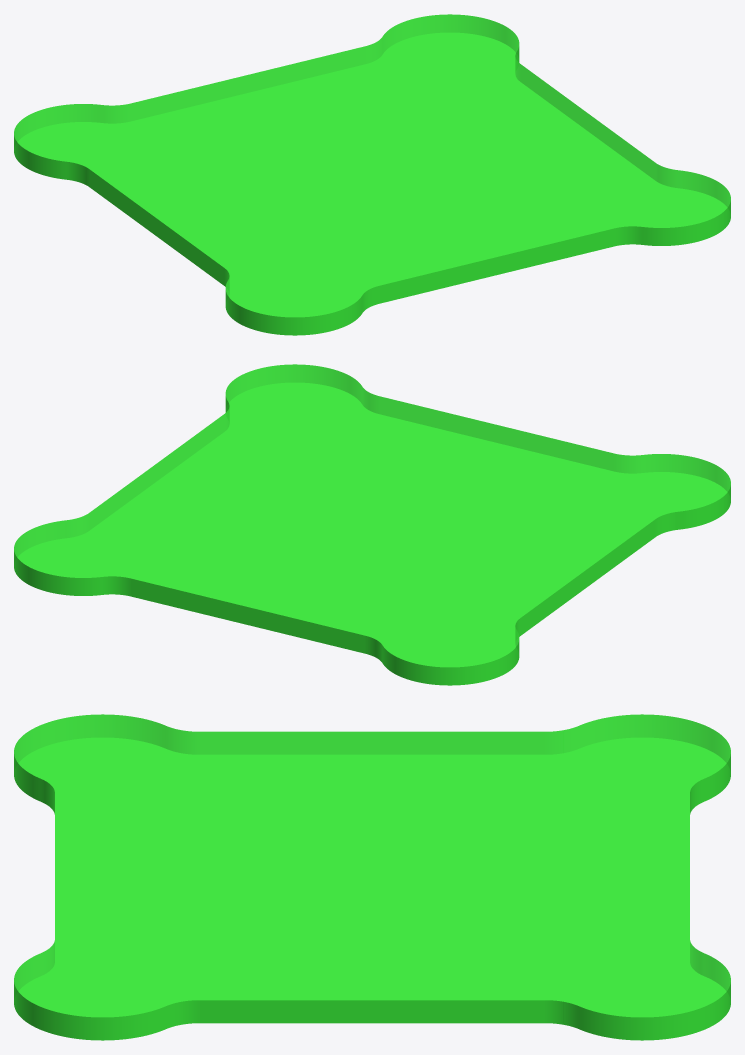
The model's file is platform.dae.
The picture shows the model from 3 angles, top to bottom: view 1: azimuth 30°, elevation 25°; view 2: azimuth 150°, elevation 25°; view 3: azimuth 270°, elevation 25°; orthographic projection. The views are drawn at different scales.
Visible parts, largest first — view 1: SketchUp (×2); view 2: SketchUp (×2); view 3: SketchUp (×2).
Part boxes in pixels (<box>): SketchUp (×2): <box>14,14,730,335</box>; SketchUp (×2): <box>14,364,730,685</box>; SketchUp (×2): <box>14,714,730,1040</box>.
Size of the model in its own units: 8.89 by 8.89 by 0.315.
